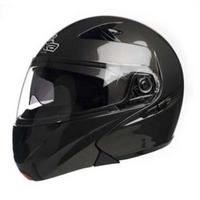helmet: (19, 18, 183, 158)
